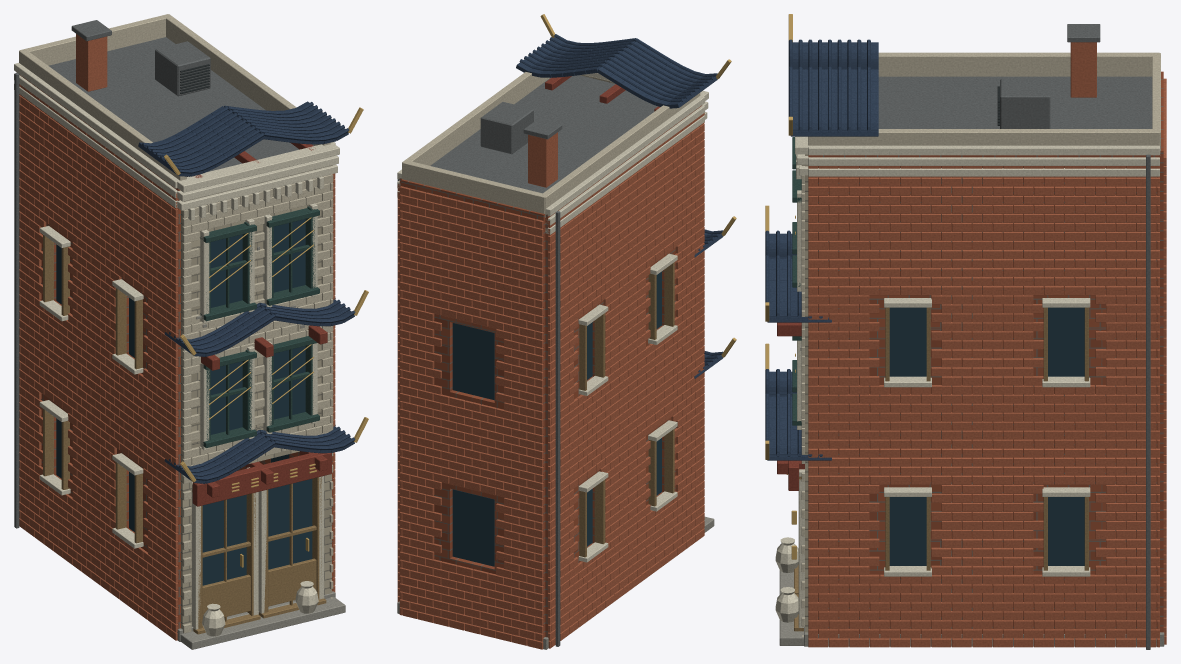
Rendered from CHINA13_lod0.glb.
3 renders of one model, left to right at view 1: azimuth 30°, elevation 25°; view 2: azimuth 150°, elevation 25°; view 3: azimuth 270°, elevation 25°, orthographic. The views are drawn at different scales.
Parts seen in each view (by area): view 1: CHINA13_LOD0; view 2: CHINA13_LOD0; view 3: CHINA13_LOD0.
Boxes of the visible parts, bbox=[...] form: CHINA13_LOD0: bbox=[14, 14, 368, 649]; CHINA13_LOD0: bbox=[397, 14, 736, 649]; CHINA13_LOD0: bbox=[765, 14, 1166, 649].
Size of the model in its own units: 4.25 by 10.45 by 6.85.
Materials: 19 (16 with a texture image).
